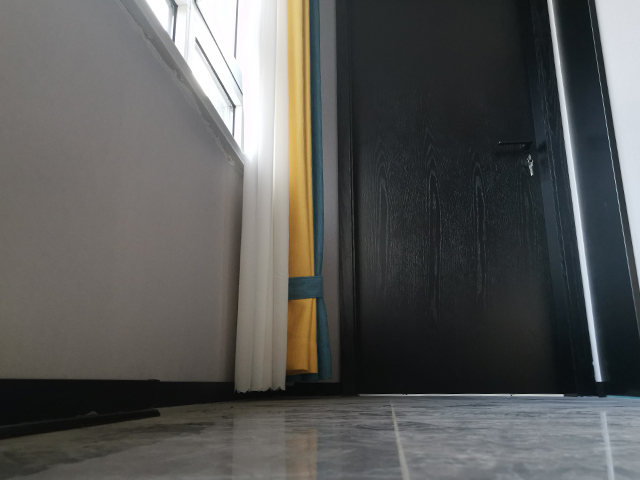curtain: (231, 1, 337, 397)
